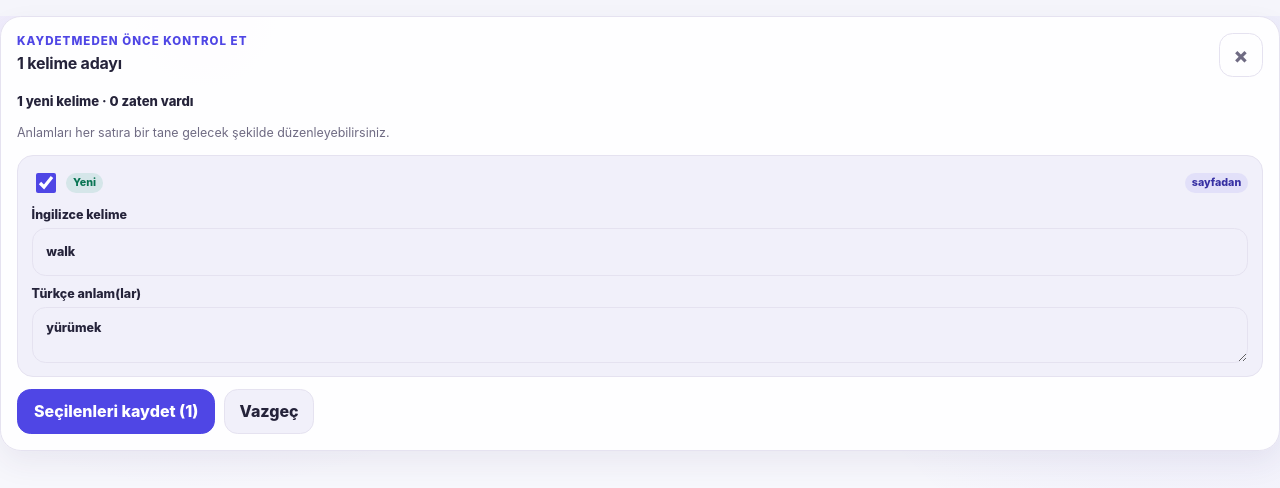
Test: fotoğraf adayı onay ekranı › seçilen adayı kaydeder ve Kelimelerim canlı listesinde gösterir
The width and height of the screenshot is (1280, 488).
Later steps or results of the test are not shown.
Click the button "Seçilenleri kaydet (1)" at (116, 411), box [17,389,215,434]
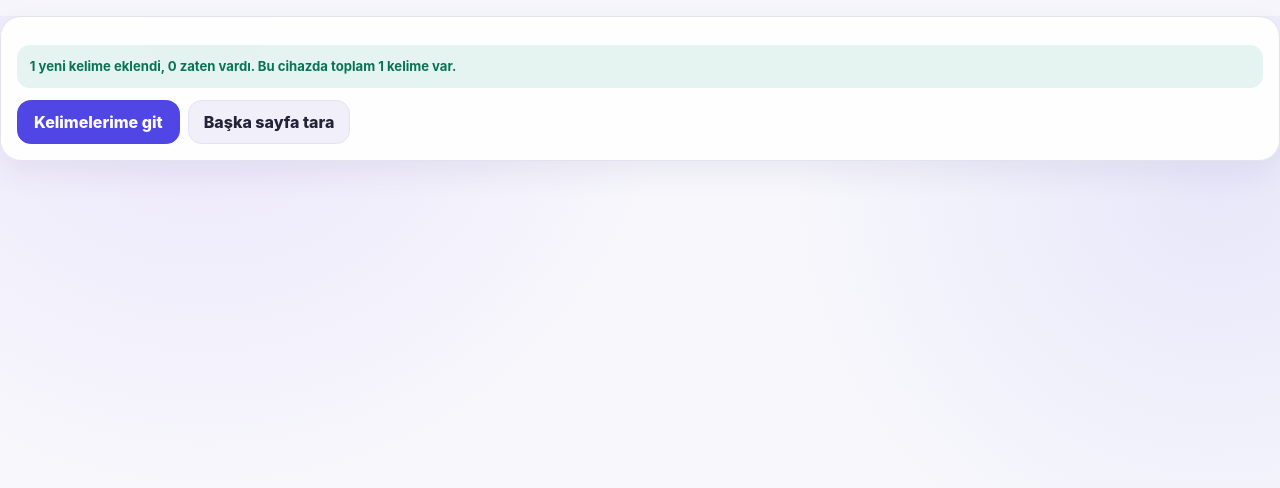
expect the text "1 yeni kelime eklendi, 0 zaten vardı. Bu cihazda toplam 1 kelime var." is shown: met, box [17,45,1263,88]
